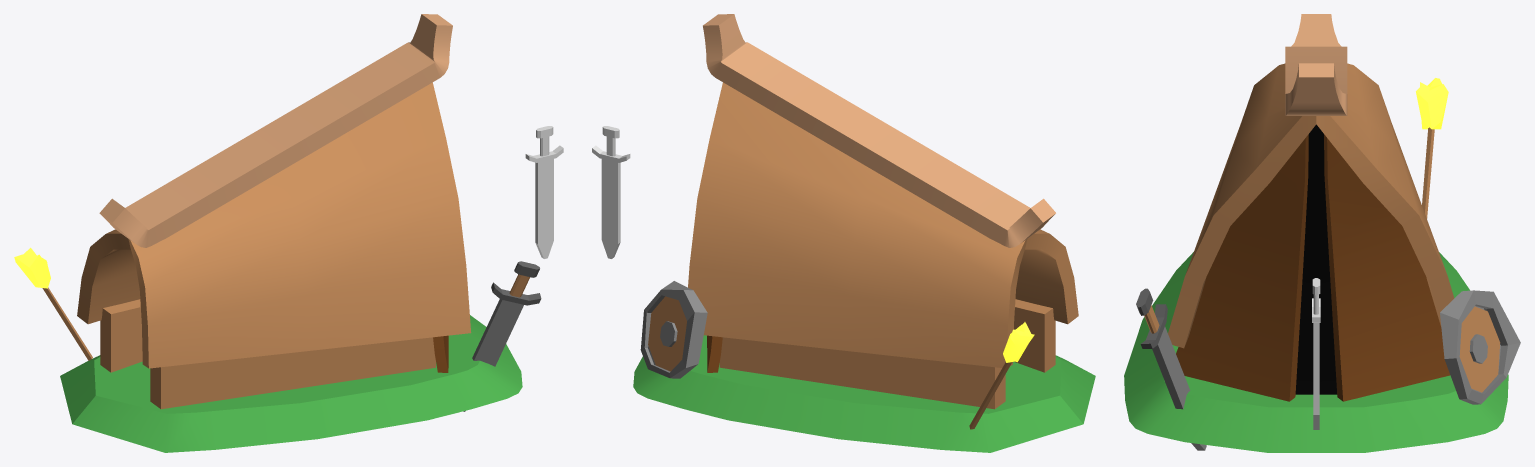
File: Home1.fbx
The picture shows the model from 3 angles, left to right: view 1: azimuth 30°, elevation 25°; view 2: azimuth 150°, elevation 25°; view 3: azimuth 270°, elevation 25°; orthographic projection. The views are drawn at different scales.
Visible parts, largest first — view 1: Cube.001, Cube, Cube.003, Cube.004, Cube.012, Cube.008, Cube.007; view 2: Cube.001, Cube, Cube.003, Cube.004, Cylinder, Cylinder.002, Cube.012, Cube.007, Cube.002; view 3: Cube.002, Cube, Cube.001, Cube.005, Cube.003, Cylinder, Cylinder.002, Cube.008, Cube.007, Cube.012, Cube.006, Cube.009 (+1 smaller).
Boxes of the visible parts, box(x1,y1,x2,y2) form: Cube.001: box(77, 82, 471, 368); Cube: box(60, 315, 522, 452); Cube.003: box(99, 14, 452, 247); Cube.004: box(100, 299, 435, 409); Cube.012: box(535, 159, 553, 258); Cube.008: box(463, 299, 523, 411); Cube.007: box(14, 247, 50, 288); Cube.001: box(688, 82, 1078, 367); Cube: box(633, 335, 1095, 452); Cube.003: box(703, 14, 1055, 247); Cube.004: box(719, 299, 1055, 409); Cylinder: box(640, 281, 707, 378); Cylinder.002: box(648, 296, 686, 371); Cube.012: box(601, 159, 620, 258); Cube.007: box(1003, 322, 1034, 362); Cube.002: box(707, 335, 722, 372); Cube.002: box(1176, 134, 1449, 401); Cube: box(1124, 252, 1508, 452); Cube.001: box(1168, 63, 1454, 348); Cube.005: box(1295, 124, 1337, 394); Cube.003: box(1285, 14, 1347, 115); Cylinder: box(1440, 290, 1520, 404); Cylinder.002: box(1459, 306, 1500, 392); Cube.008: box(1152, 327, 1206, 450); Cube.007: box(1416, 78, 1448, 129); Cube.012: box(1313, 323, 1319, 429); Cube.006: box(1422, 127, 1434, 218); Cube.009: box(1140, 304, 1167, 348).
Bounding box in the file's own units: 1253 × 849 × 770.
